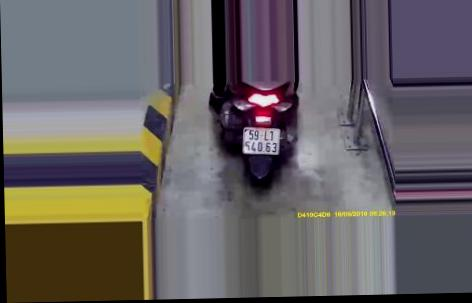License_Plate: (240, 124, 281, 160)
